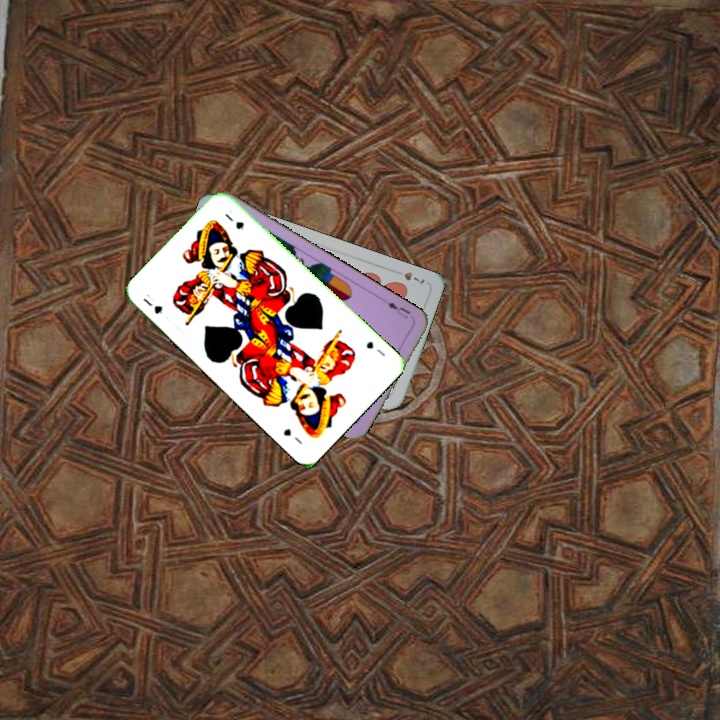EU: (383, 298, 413, 321)
GU: (139, 294, 165, 317), (362, 337, 388, 359)
H7: (400, 268, 427, 287)
